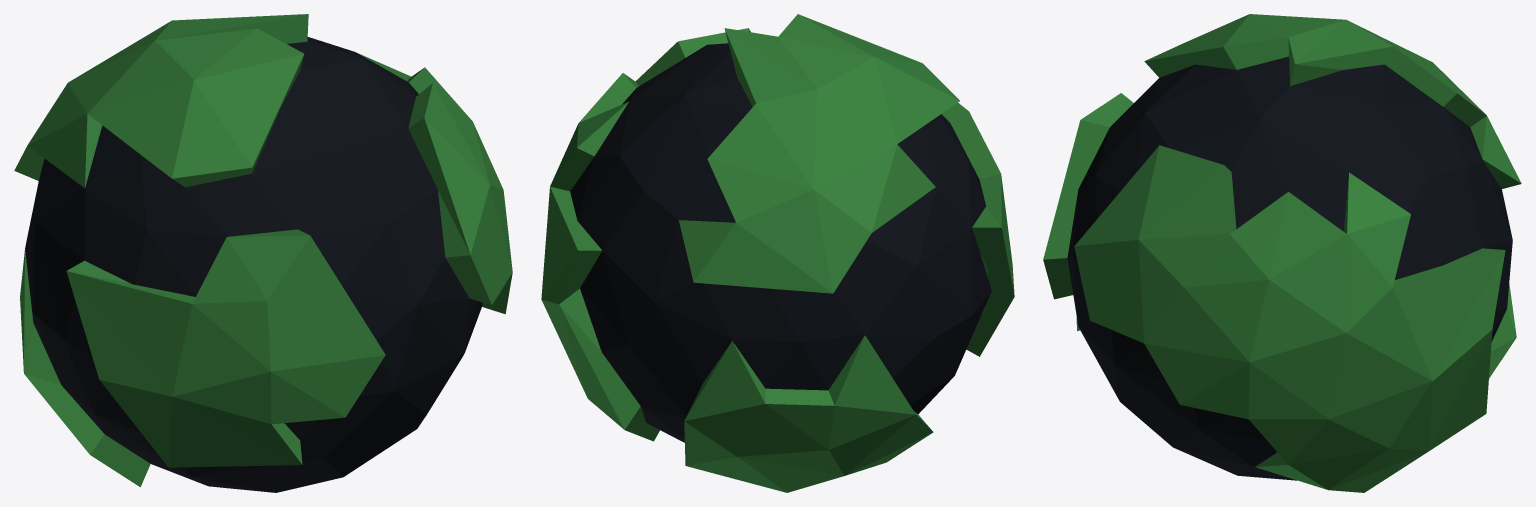
File: HabitTracker4.glb
3 renders of one model, left to right at view 1: azimuth 30°, elevation 25°; view 2: azimuth 150°, elevation 25°; view 3: azimuth 270°, elevation 25°, orthographic. The views are drawn at different scales.
Parts seen in each view (by area): view 1: Icosphère.001, Icosphère; view 2: Icosphère.001, Icosphère; view 3: Icosphère.001, Icosphère.
Boxes of the visible parts, x1=… form: Icosphère.001: x1=14, y1=14, x2=512, y2=487; Icosphère: x1=25, y1=37, x2=482, y2=492; Icosphère.001: x1=541, y1=14, x2=1014, y2=492; Icosphère: x1=570, y1=43, x2=991, y2=442; Icosphère.001: x1=1043, y1=14, x2=1521, y2=492; Icosphère: x1=1067, y1=56, x2=1512, y2=480.
Bounding box in the file's own units: 2.17 × 2.09 × 2.15.
